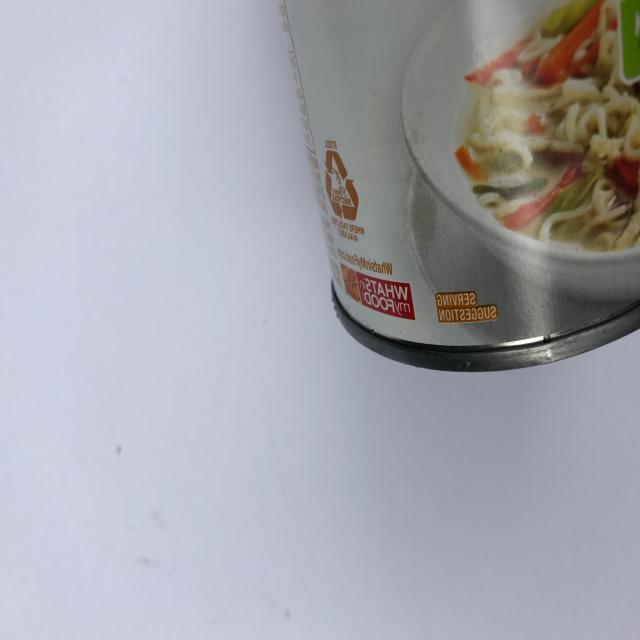metal: (273, 0, 640, 373)
